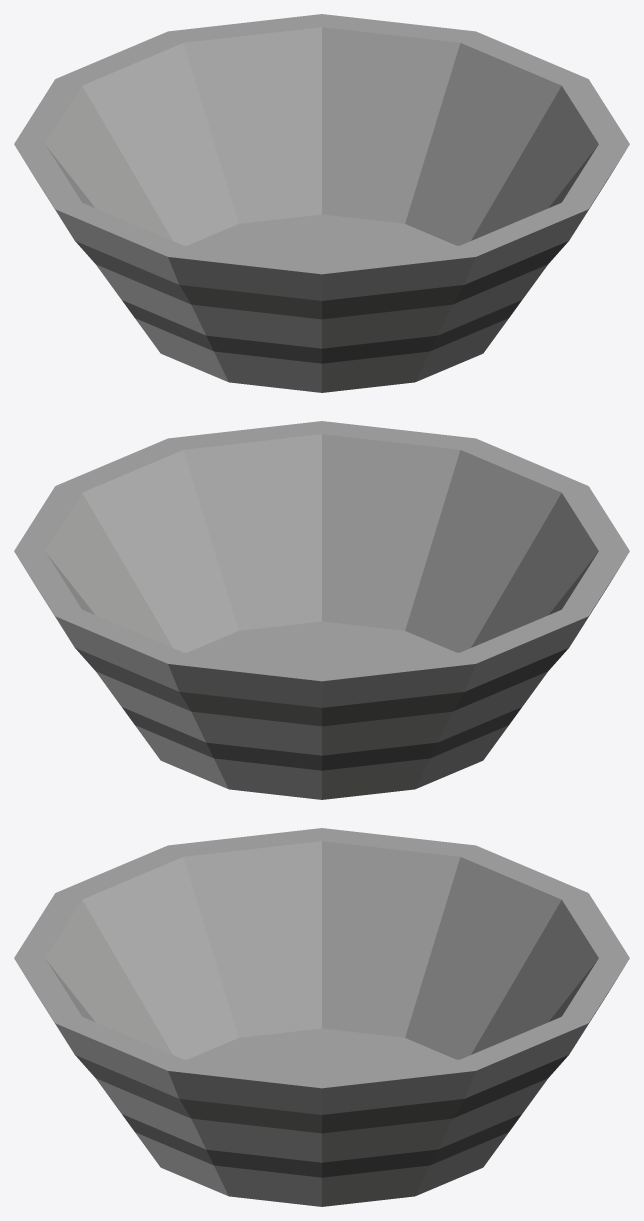
The model's file is FurnAcc_Bowl.fbx.
The picture shows the model from 3 angles, top to bottom: view 1: azimuth 30°, elevation 25°; view 2: azimuth 150°, elevation 25°; view 3: azimuth 270°, elevation 25°; orthographic projection.
Parts seen in each view (by area): view 1: FurnAcc_Bowl; view 2: FurnAcc_Bowl; view 3: FurnAcc_Bowl.
Part boxes in pixels (x1=…): FurnAcc_Bowl: x1=14, y1=14, x2=629, y2=392; FurnAcc_Bowl: x1=14, y1=421, x2=629, y2=799; FurnAcc_Bowl: x1=14, y1=828, x2=629, y2=1206.
Bounding box in the file's own units: 27.84 × 8.48 × 27.84.
